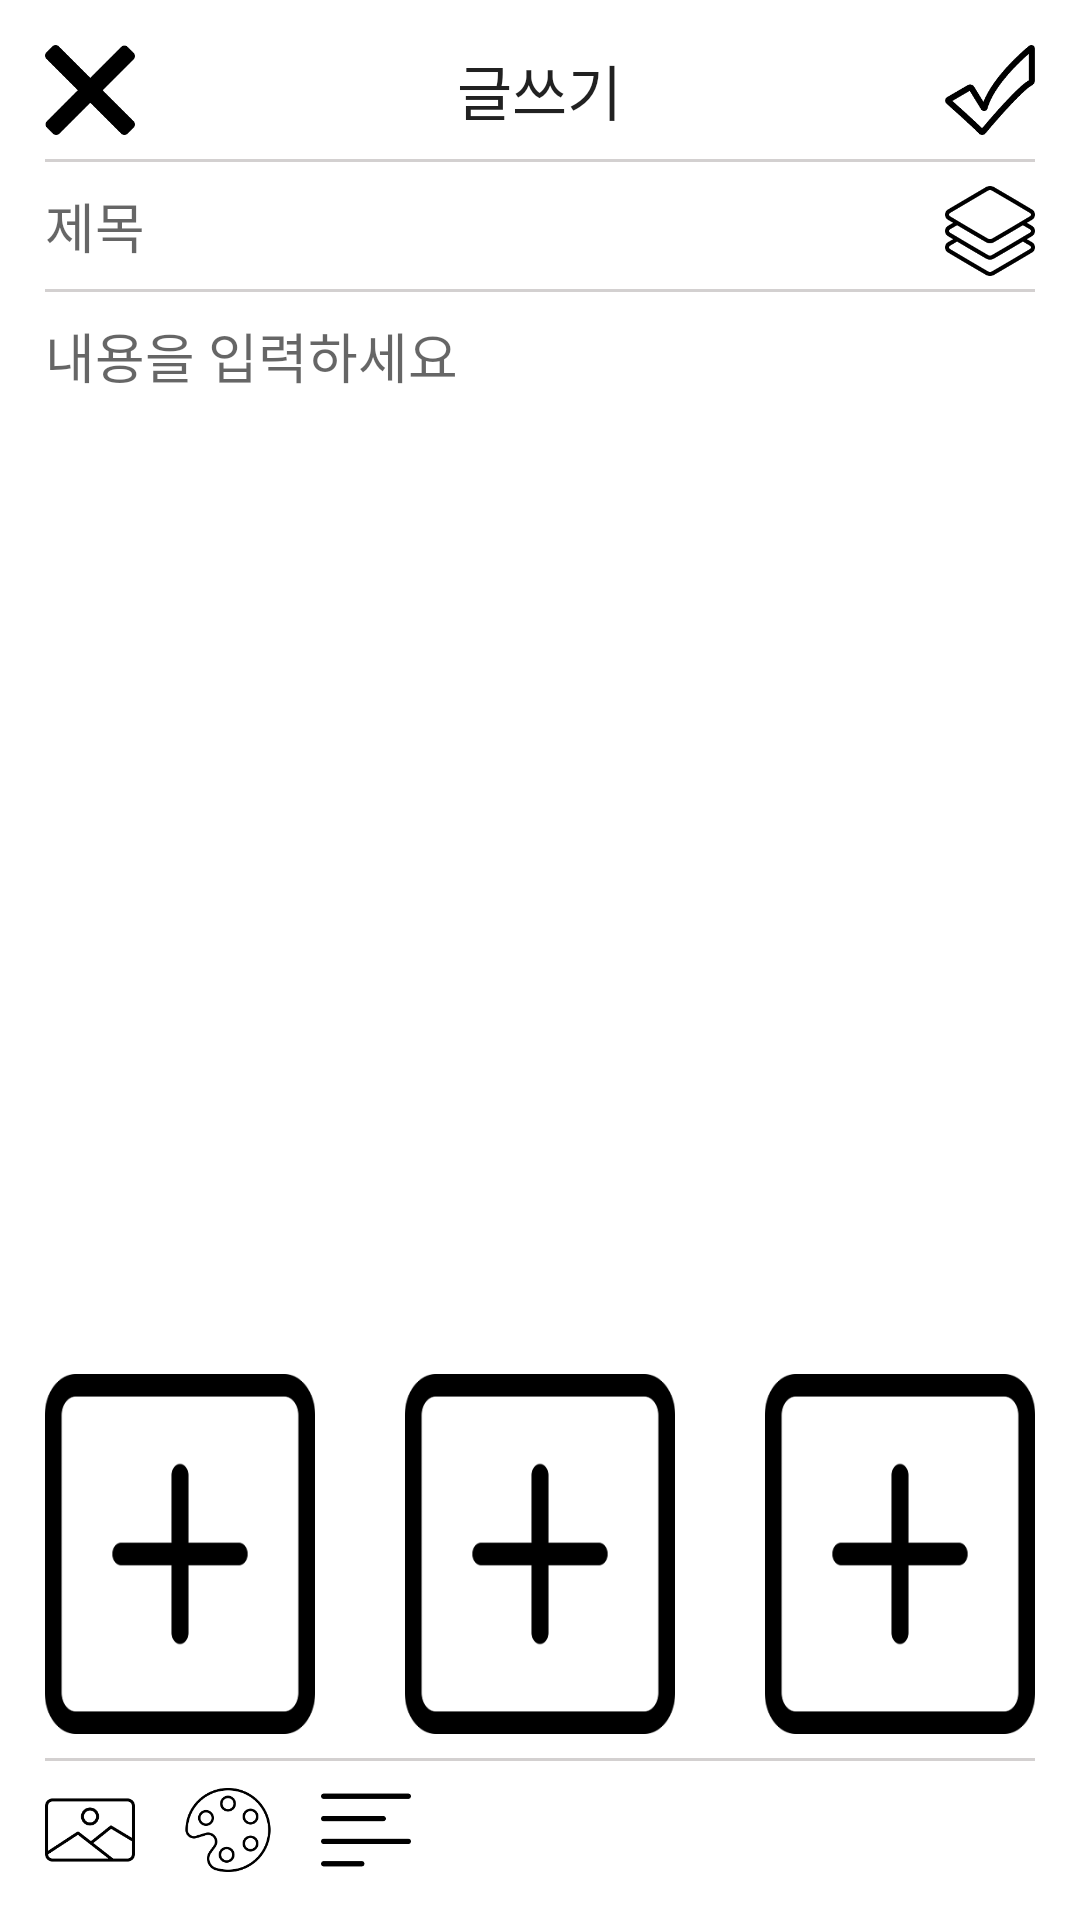

Where icons sit on this 1080px×1920px app screen, as box=[x1, y1, x2, y2]:
align: box=[321, 1793, 411, 1867]
close: box=[45, 45, 135, 135]
comunity addimage: box=[45, 1374, 315, 1734], box=[405, 1374, 675, 1734], box=[765, 1374, 1035, 1734]
photo: box=[45, 1798, 135, 1862]
